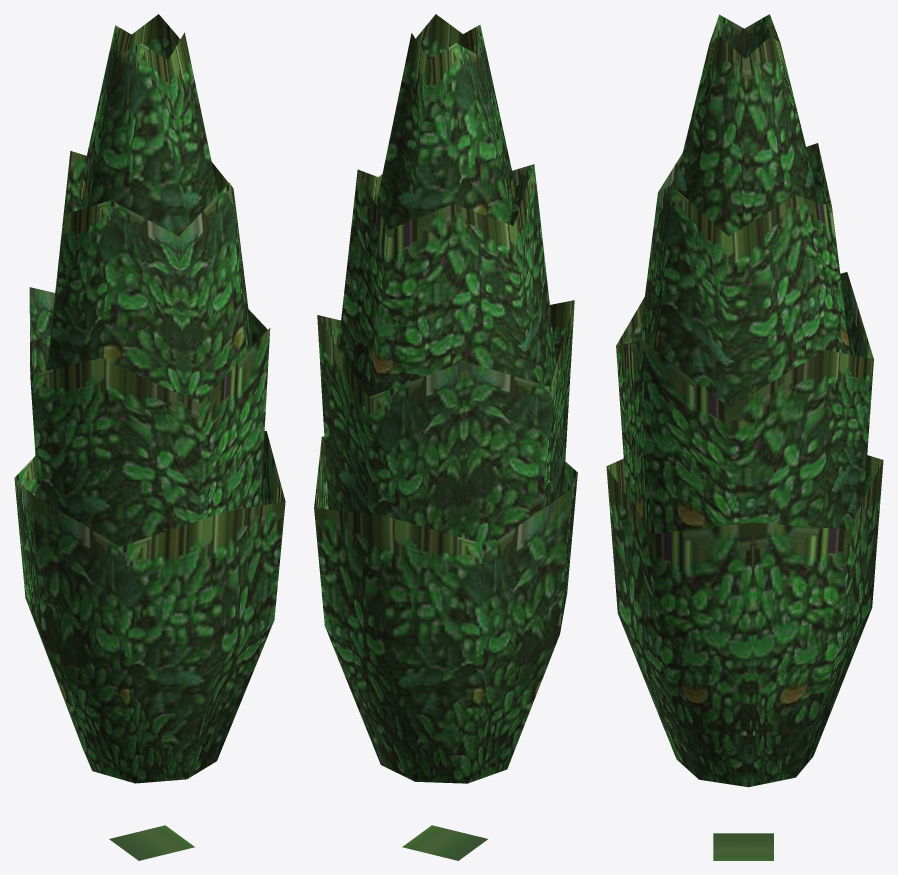
File: n_gardentree03.glb
The picture shows the model from 3 angles, left to right: view 1: azimuth 30°, elevation 25°; view 2: azimuth 150°, elevation 25°; view 3: azimuth 270°, elevation 25°; orthographic projection.
Visible parts, largest first — view 1: n_gardentree03; view 2: n_gardentree03; view 3: n_gardentree03.
Boxes of the visible parts, x1,y1,x2,y2 form: n_gardentree03: (14, 14, 285, 860); n_gardentree03: (314, 14, 577, 860); n_gardentree03: (606, 14, 883, 860).
Size of the model in its own units: 0.6244 by 2.02 by 0.6172.
1 material, 1 textured.
